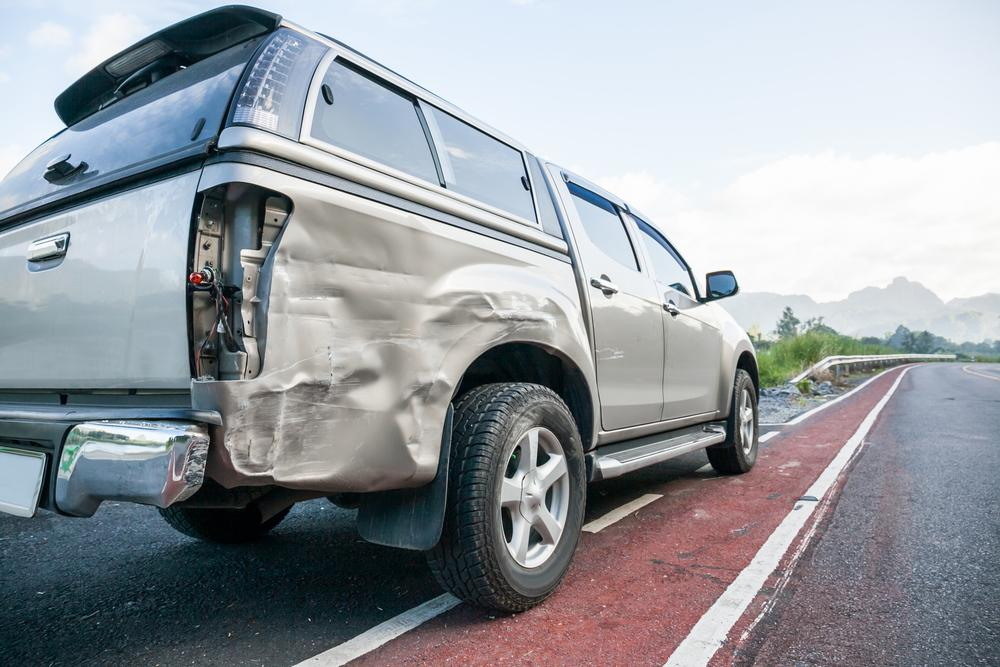dent: (226, 194, 572, 480)
